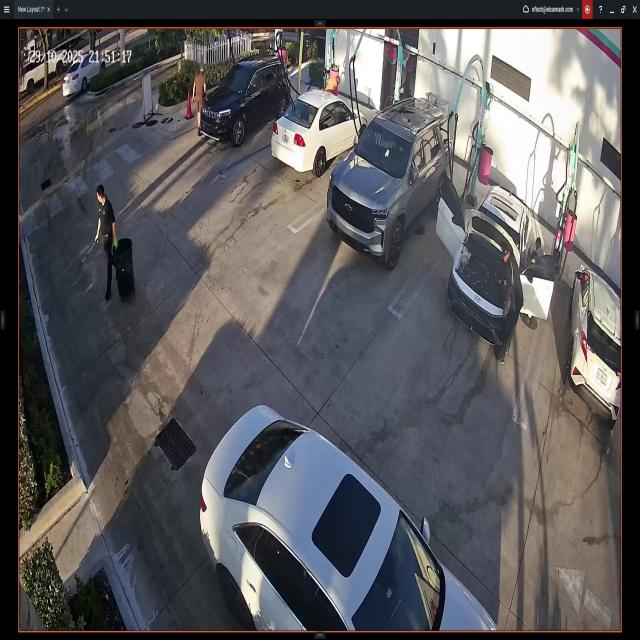Car: (201, 404, 499, 632), (326, 97, 452, 265), (441, 175, 555, 350), (199, 60, 290, 149), (570, 265, 621, 422), (274, 90, 367, 175), (65, 53, 106, 95)
